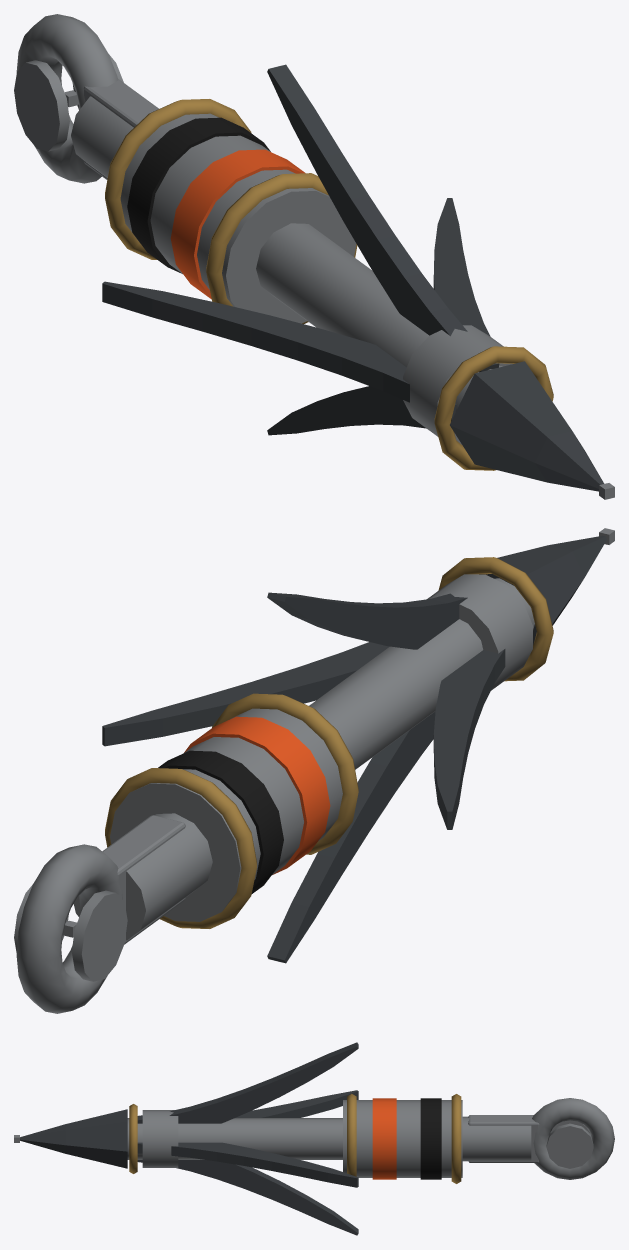
File: grapple_dart_barbed.fbx
3 views of the same model, one above another, from view 1: azimuth 30°, elevation 25°; view 2: azimuth 150°, elevation 25°; view 3: azimuth 270°, elevation 25° (orthographic). The views are drawn at different scales.
Parts seen in each view (by area): view 1: Mesh_GrappleDart_Barbed; view 2: Mesh_GrappleDart_Barbed; view 3: Mesh_GrappleDart_Barbed.
Part boxes in pixels (bbox=[...]): Mesh_GrappleDart_Barbed: bbox=[14, 14, 604, 491]; Mesh_GrappleDart_Barbed: bbox=[14, 535, 606, 1013]; Mesh_GrappleDart_Barbed: bbox=[20, 1042, 614, 1235].
Bounding box in the file's own units: 13.95 × 13.95 × 40.2.
